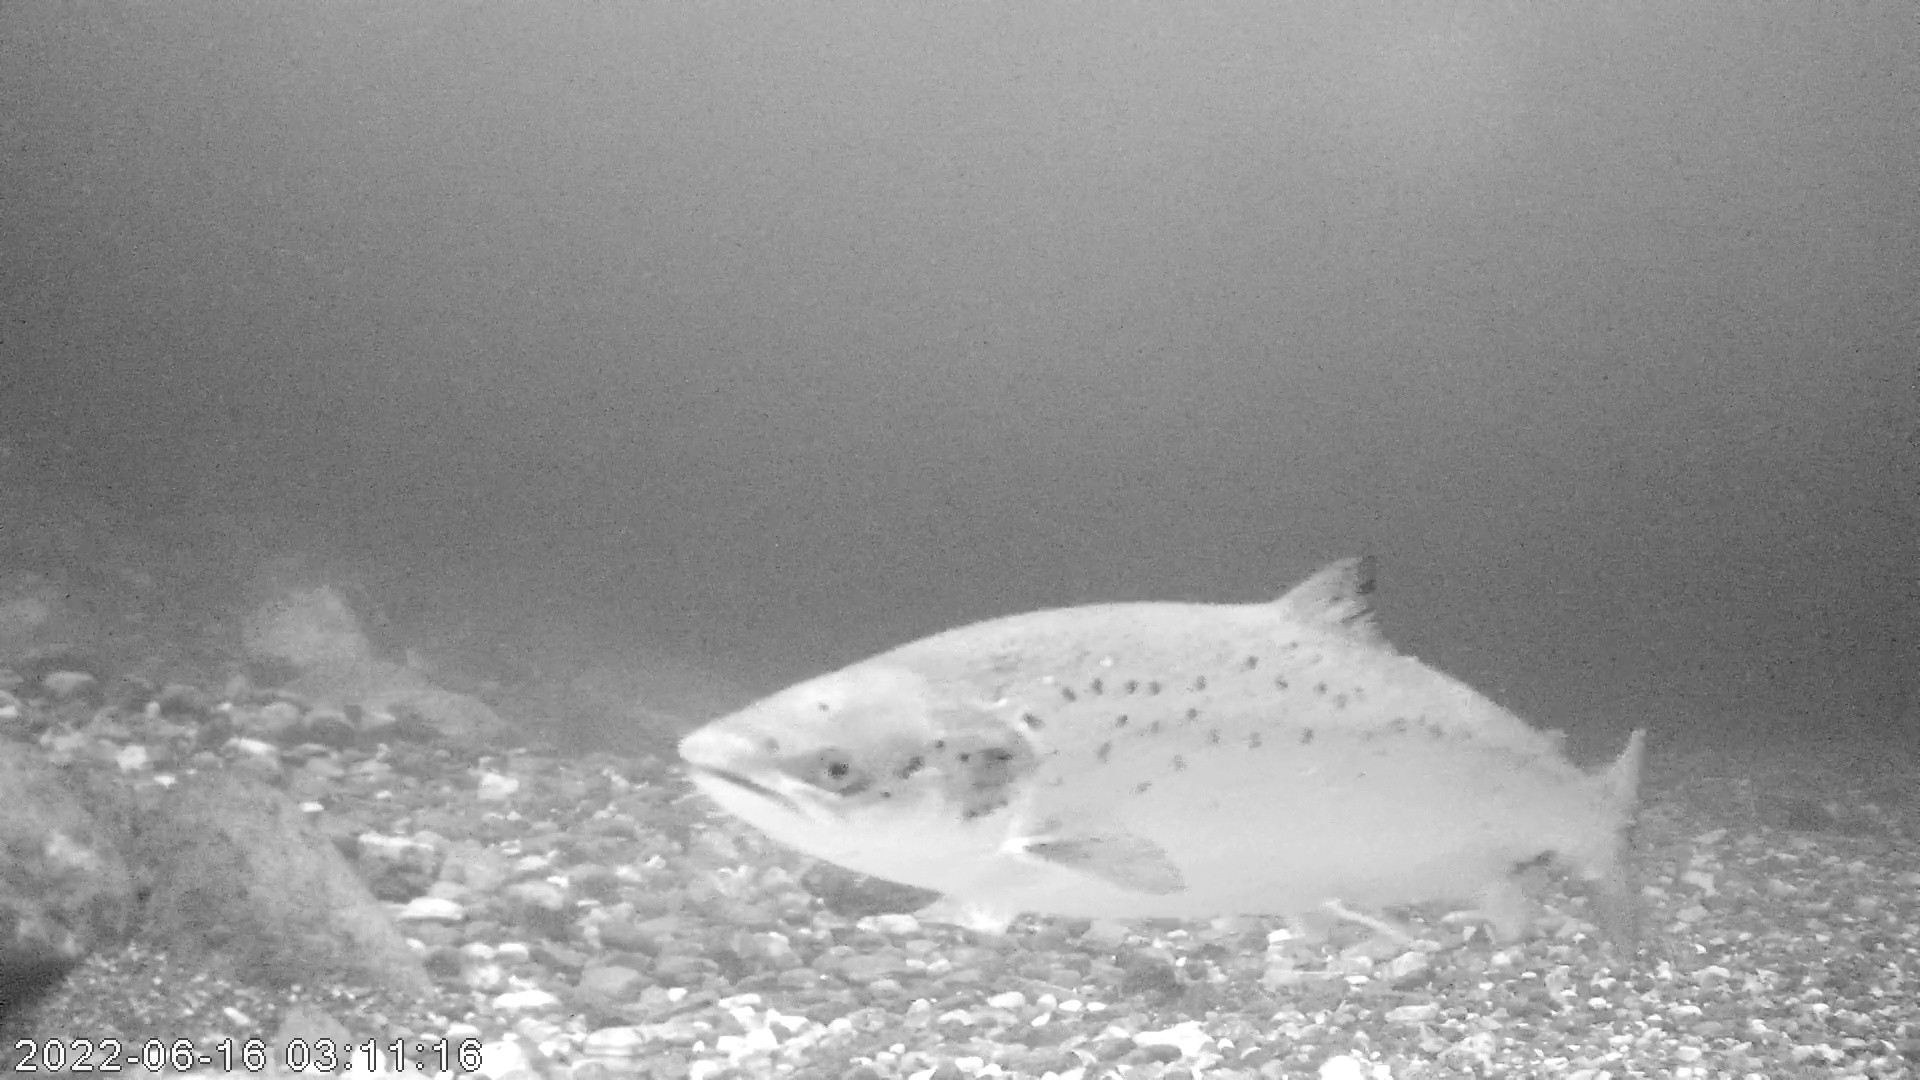salmon: (674, 543, 1648, 952)
